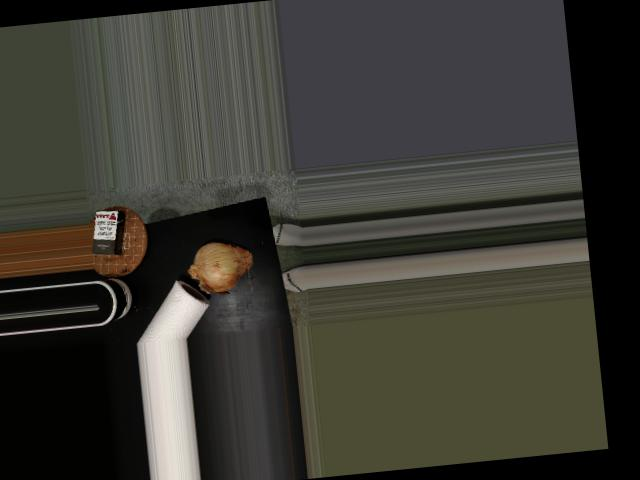onion: (186, 235, 252, 291)
